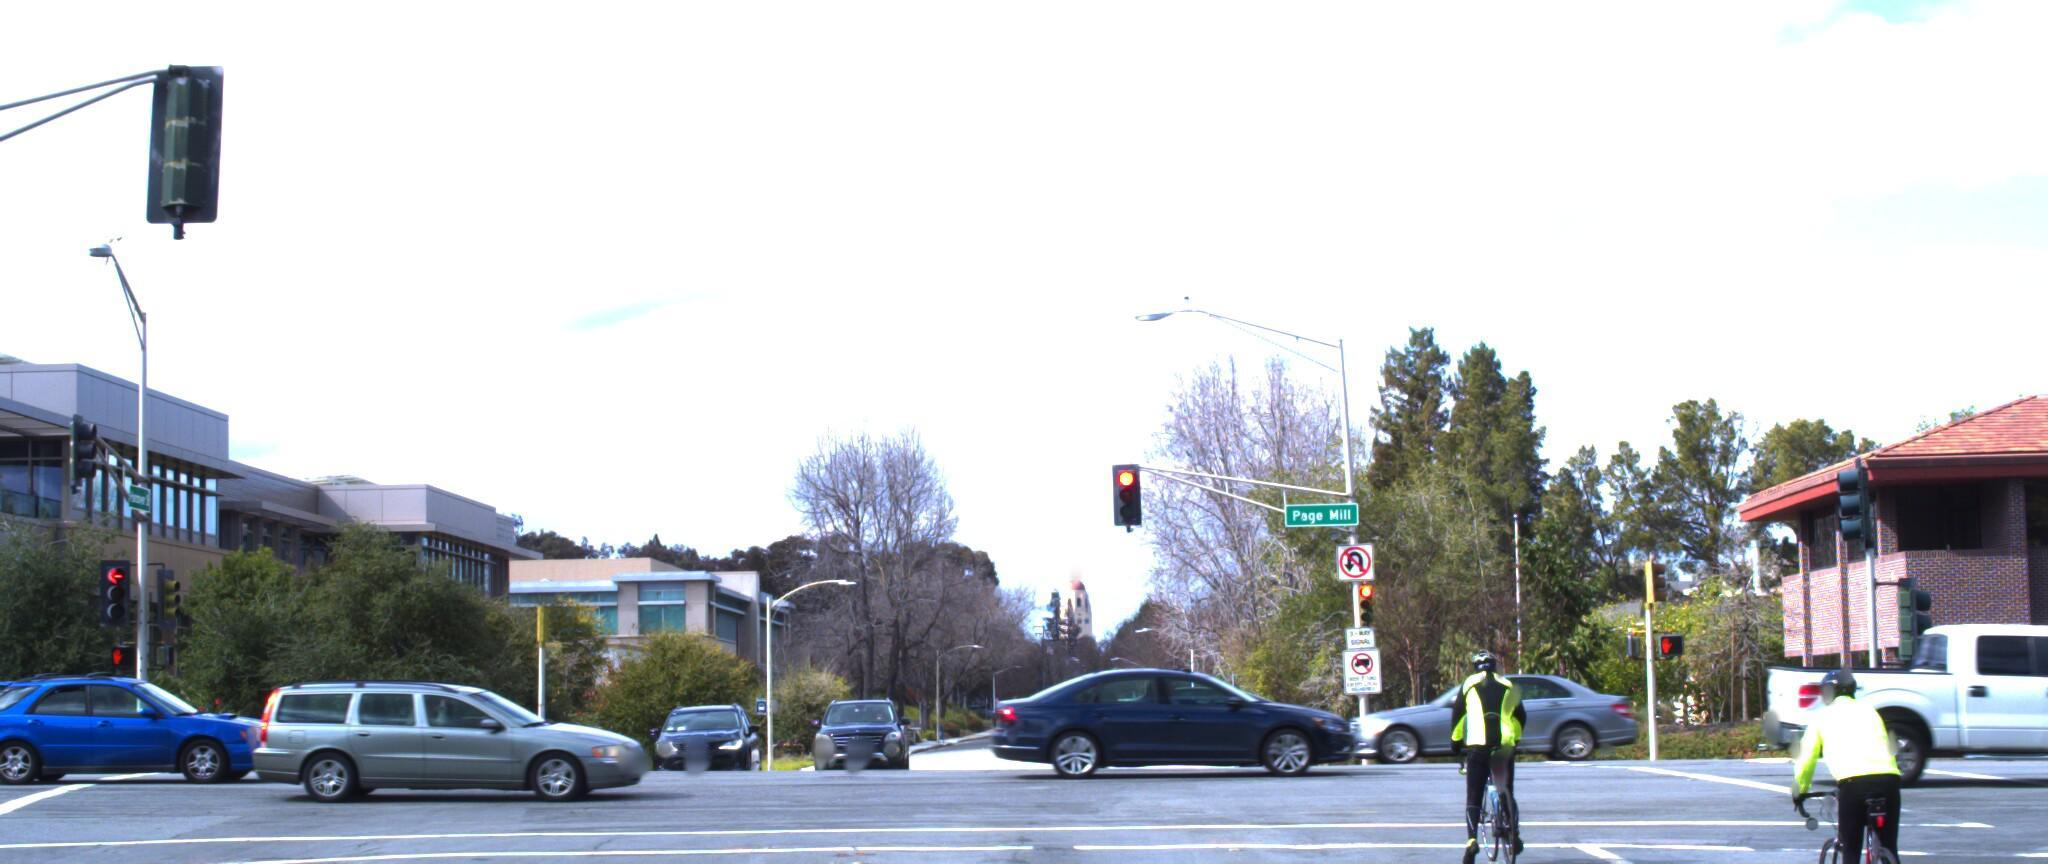bicycle: (1733, 673, 1972, 864), (1413, 645, 1557, 864)
car: (253, 672, 674, 812), (1738, 623, 2048, 780), (978, 668, 1347, 786), (0, 672, 324, 794), (1337, 667, 1640, 767), (660, 700, 782, 790), (808, 700, 926, 784)
